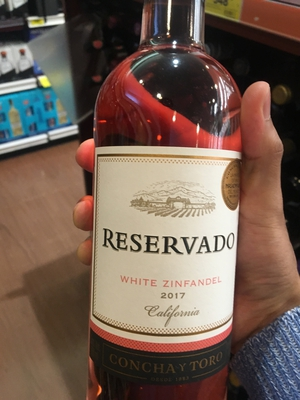reservado white zinfandel: (91, 6, 251, 400)
